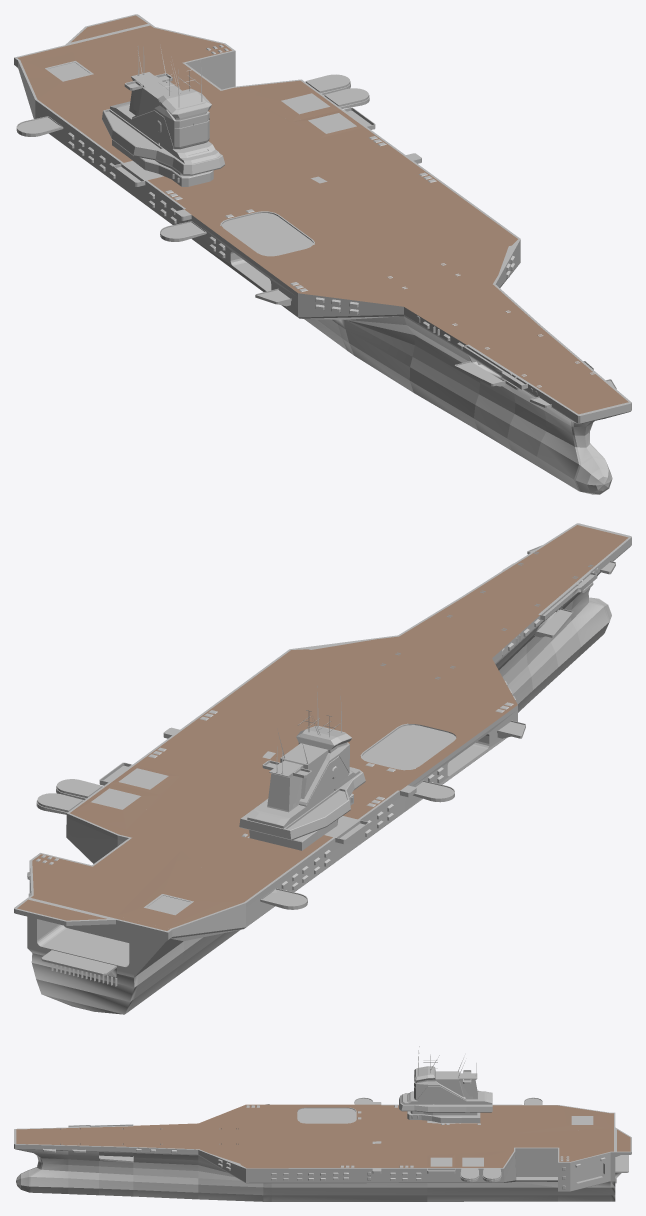
The model's file is big_carrier1.fbx.
The picture shows the model from 3 angles, top to bottom: view 1: azimuth 30°, elevation 25°; view 2: azimuth 150°, elevation 25°; view 3: azimuth 270°, elevation 25°; orthographic projection. The views are drawn at different scales.
Visible parts, largest first — view 1: big_carrier1; view 2: big_carrier1; view 3: big_carrier1.
Part boxes in pixels (x1,y1,x2,y2): big_carrier1: (14,14,631,494); big_carrier1: (14,523,631,1014); big_carrier1: (14,1046,631,1201).
Bounding box in the file's own units: 2322 × 1592 × 7121.
